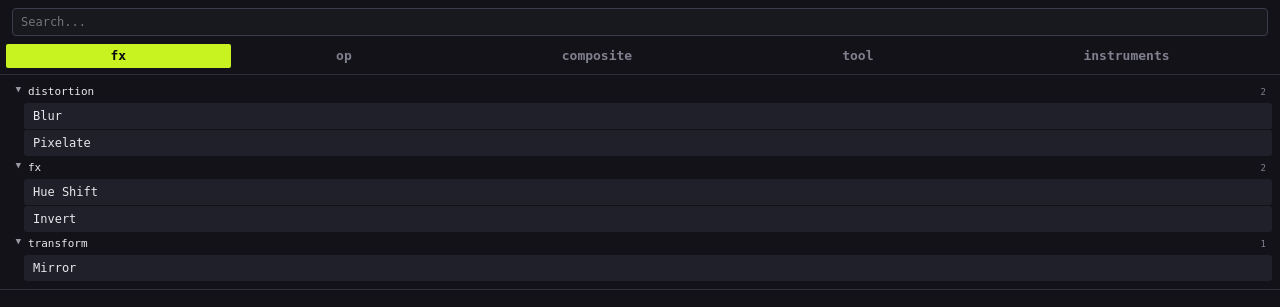
Test: Interactions — Effect Browser Search › search with no match shows empty state
Type "zzz_nonexistent_xyz" into the field with class "effect-search__input" at (640, 22), box [12,8,1268,36]
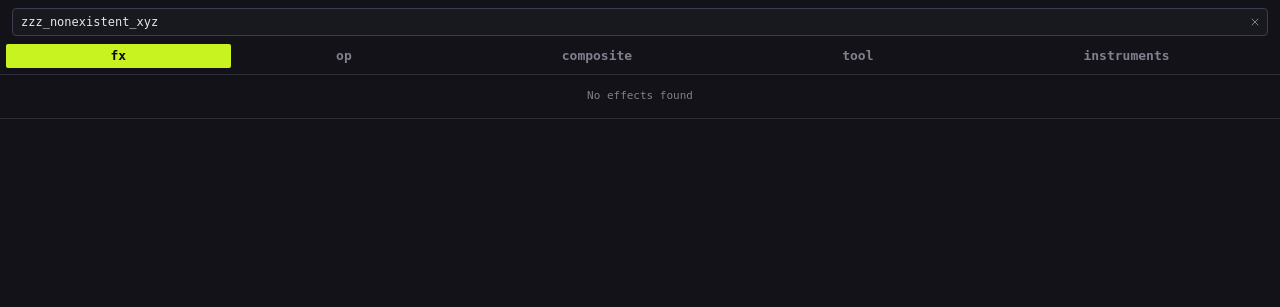
Expected: no buttons with class "effect-browser__item" are shown
Expected: the text with class "effect-browser__empty" reads "No effects found", [587,89,693,102]
